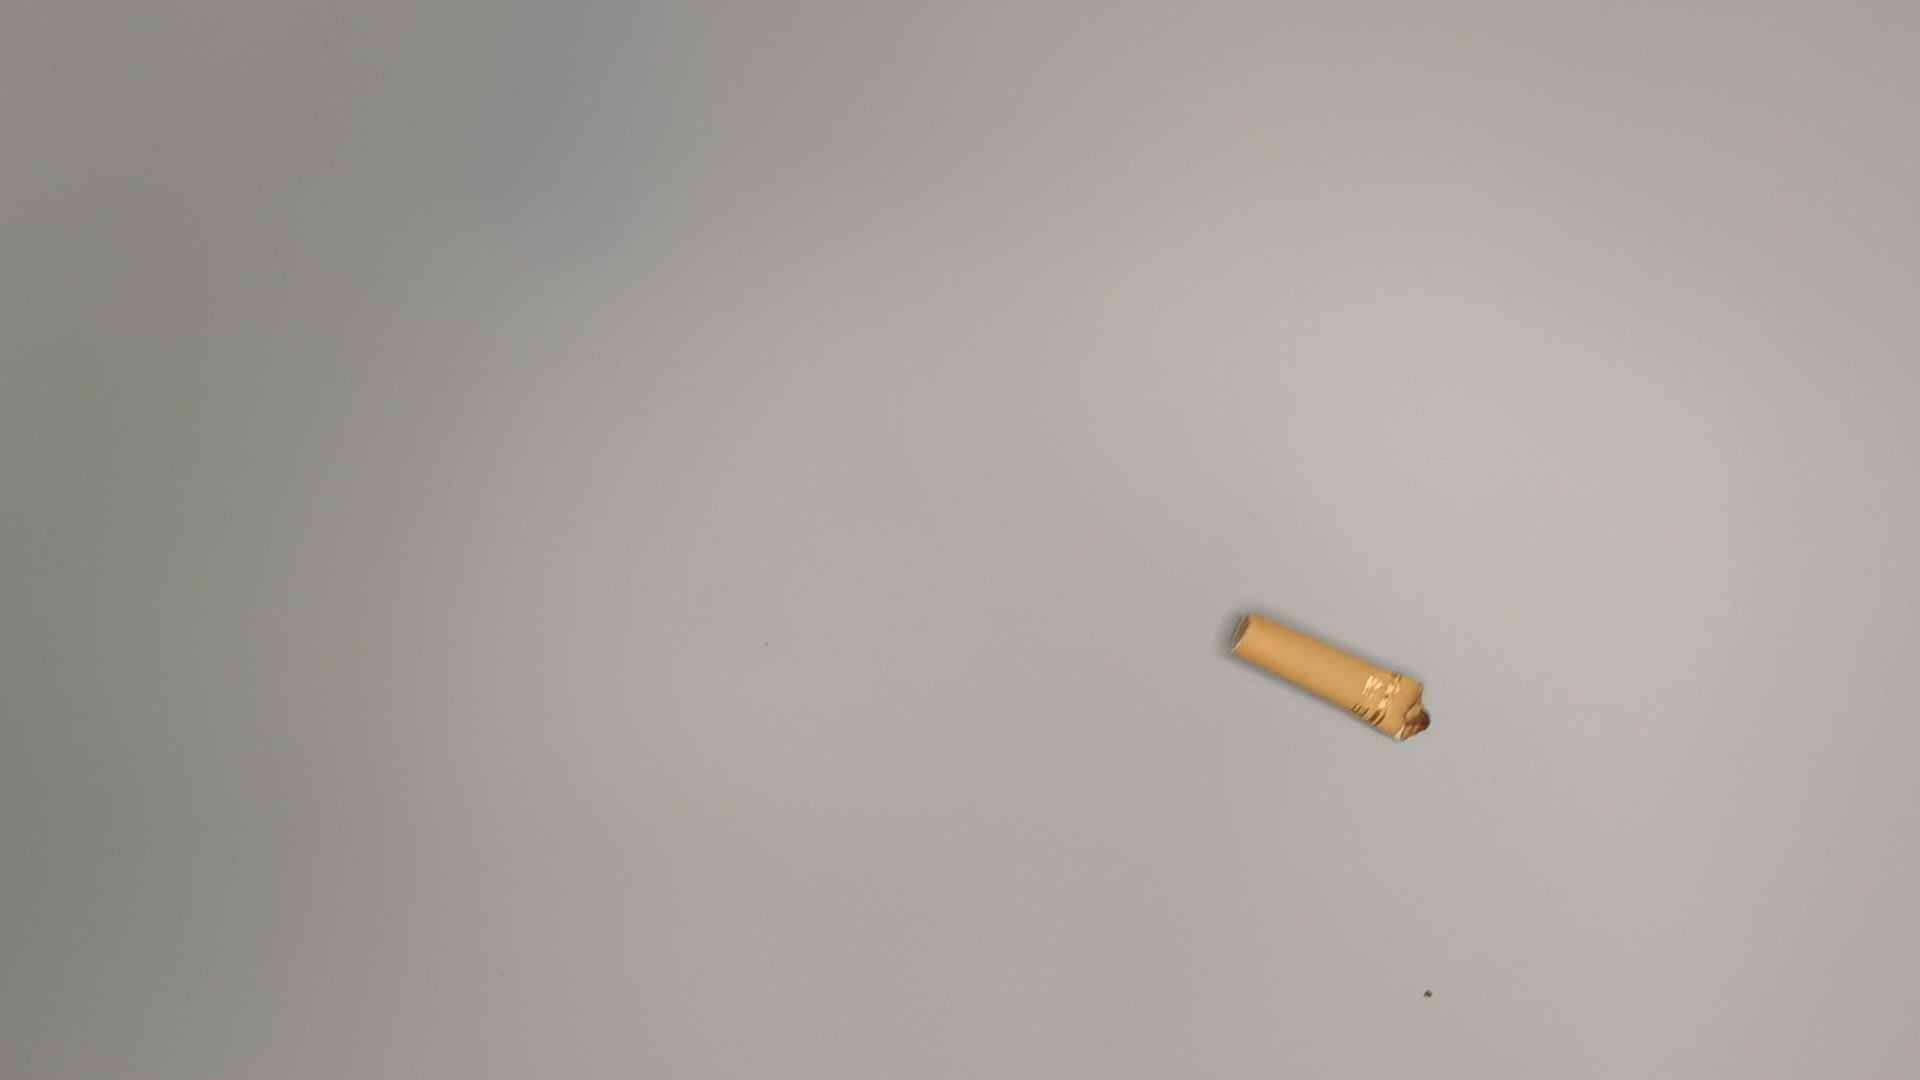cigarette: (1221, 605, 1432, 746)
